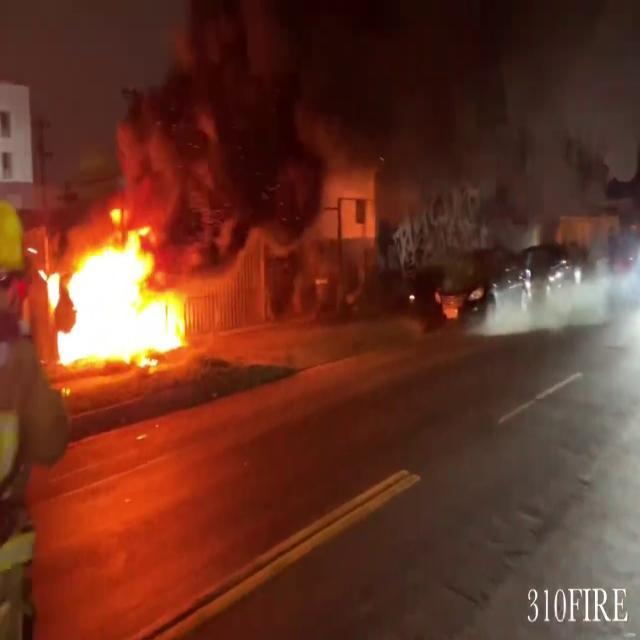Fire: (38, 211, 196, 376)
Smoke: (111, 0, 640, 213)
